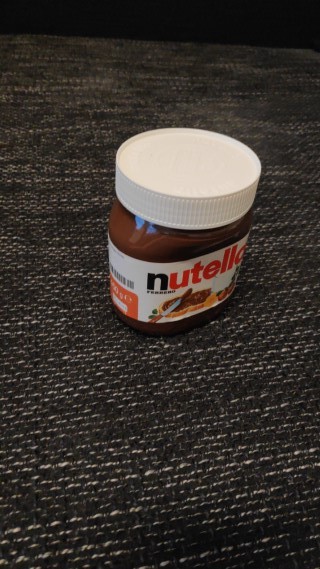nutella: (107, 126, 262, 338)
